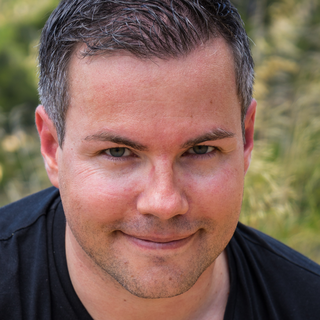eye: (92, 140, 143, 165), (177, 139, 227, 164)
